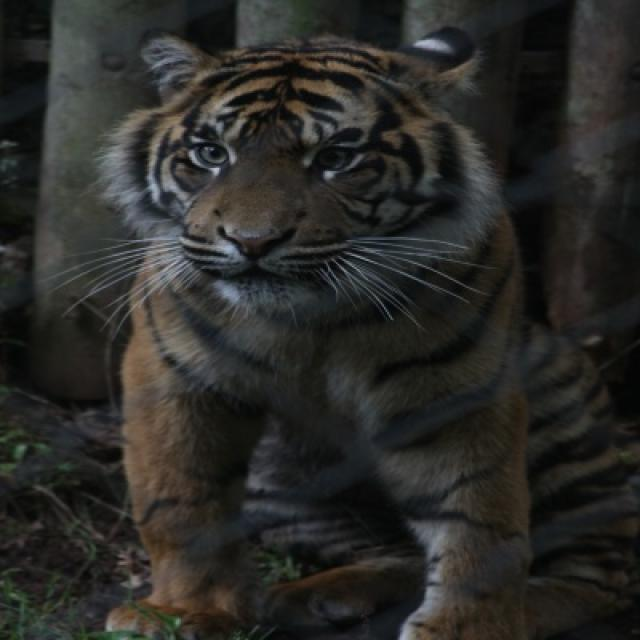Tiger: (107, 27, 635, 638)
